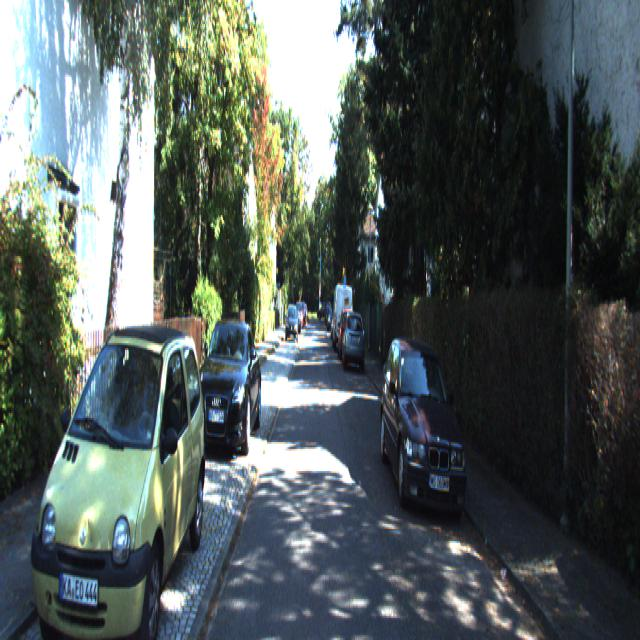Car: (33, 321, 209, 638), (378, 331, 471, 527), (193, 316, 261, 464), (333, 283, 354, 354), (343, 310, 366, 373), (286, 302, 298, 341)
